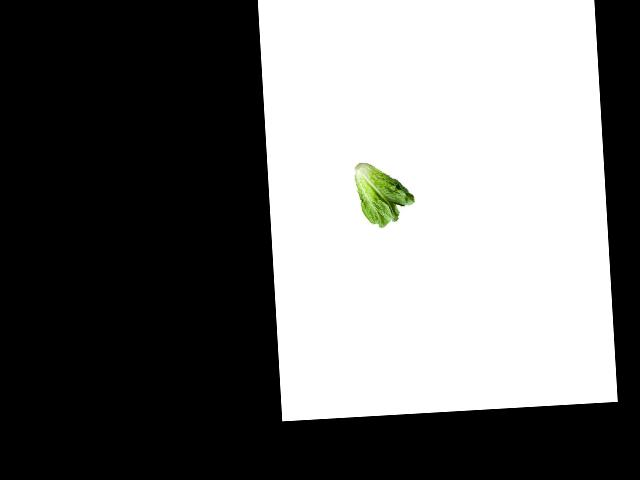lettuce: (348, 155, 418, 229)
